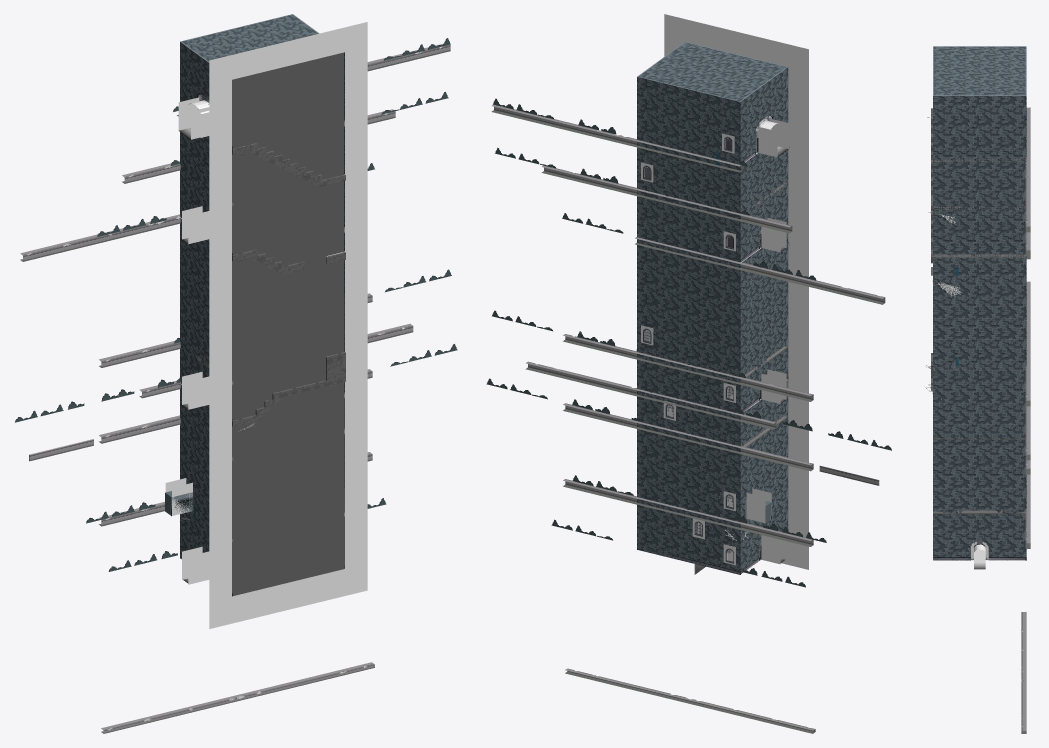
File: gon_05.dae
The picture shows the model from 3 angles, left to right: view 1: azimuth 30°, elevation 25°; view 2: azimuth 150°, elevation 25°; view 3: azimuth 270°, elevation 25°; orthographic projection. The views are drawn at different scales.
Parts seen in each view (by area): view 1: a_kabemae, kuro5, polySurface205_q00139_part0, pCube112_q00137_part0, yuka2, polySurface204_q00138_part0, pCube151_q00129_part0, pCube151_q00134_part0, polySurface543_q00196, s_kabeyoko02_part0, polySurface261_q00237, polySurface84_q00140_part0 (+10 smaller); view 2: polySurface825_q00259, kuro5, polySurface205_q00139_part0, yuka2, pCube112_q00137_part0, polySurface204_q00138_part0, s_kabeyoko02_part0, pCube151_q00132_part0, pCube151_q00133_part0, pCube151_q00131_part0, pCube151_q00135_part0, pCube151_q00134_part0 (+7 smaller); view 3: polySurface85_q00141_part0, yuka2, pCube151_q00129_part0, pCube151_q00136_part0, pCube151_q00133_part0, polySurface817_q00115, pCube151_q00130_part0, pCube151_q00132_part0, polySurface817_q00121, polySurface817_q00112, polySurface85_q00141_part1, a_kabeyoko_03.
Part boxes in pixels (bbox=[...]): a_kabemae: bbox=[232, 53, 344, 595]; kuro5: bbox=[209, 22, 367, 628]; polySurface205_q00139_part0: bbox=[180, 218, 209, 380]; pCube112_q00137_part0: bbox=[165, 384, 209, 524]; yuka2: bbox=[180, 14, 319, 62]; polySurface204_q00138_part0: bbox=[180, 132, 209, 215]; pCube151_q00129_part0: bbox=[101, 662, 374, 733]; pCube151_q00134_part0: bbox=[20, 214, 180, 261]; polySurface543_q00196: bbox=[232, 352, 345, 426]; s_kabeyoko02_part0: bbox=[180, 42, 209, 101]; polySurface261_q00237: bbox=[232, 143, 345, 186]; polySurface84_q00140_part0: bbox=[180, 511, 209, 555]; polySurface825_q00259: bbox=[637, 77, 740, 574]; kuro5: bbox=[664, 14, 808, 569]; polySurface205_q00139_part0: bbox=[740, 233, 788, 410]; yuka2: bbox=[637, 42, 787, 101]; pCube112_q00137_part0: bbox=[740, 380, 788, 524]; polySurface204_q00138_part0: bbox=[740, 150, 788, 259]; s_kabeyoko02_part0: bbox=[740, 67, 788, 161]; pCube151_q00132_part0: bbox=[525, 361, 776, 429]; pCube151_q00133_part0: bbox=[563, 334, 813, 401]; pCube151_q00131_part0: bbox=[563, 403, 813, 471]; pCube151_q00135_part0: bbox=[541, 165, 792, 233]; pCube151_q00134_part0: bbox=[635, 237, 885, 304]; polySurface85_q00141_part0: bbox=[933, 96, 1026, 557]; yuka2: bbox=[933, 46, 1026, 95]; pCube151_q00129_part0: bbox=[1021, 612, 1026, 733]; pCube151_q00136_part0: bbox=[1025, 107, 1030, 232]; pCube151_q00133_part0: bbox=[1025, 281, 1030, 406]; polySurface817_q00115: bbox=[933, 253, 1025, 258]; pCube151_q00130_part0: bbox=[1025, 474, 1030, 548]; pCube151_q00132_part0: bbox=[1025, 406, 1030, 460]; polySurface817_q00121: bbox=[933, 509, 1025, 514]; polySurface817_q00112: bbox=[933, 158, 1024, 162]; polySurface85_q00141_part1: bbox=[933, 541, 1025, 560]; a_kabeyoko_03: bbox=[971, 542, 1025, 560].
Bounding box in the file's own units: 196 × 294 × 48.19.
